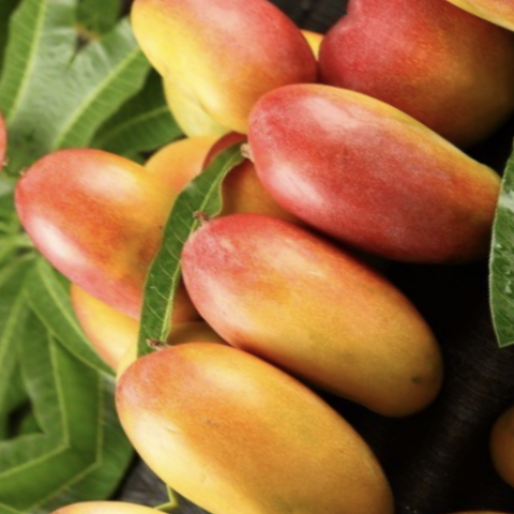mango: (185, 23, 514, 327), (155, 171, 488, 450), (59, 285, 431, 514), (0, 98, 254, 355)
